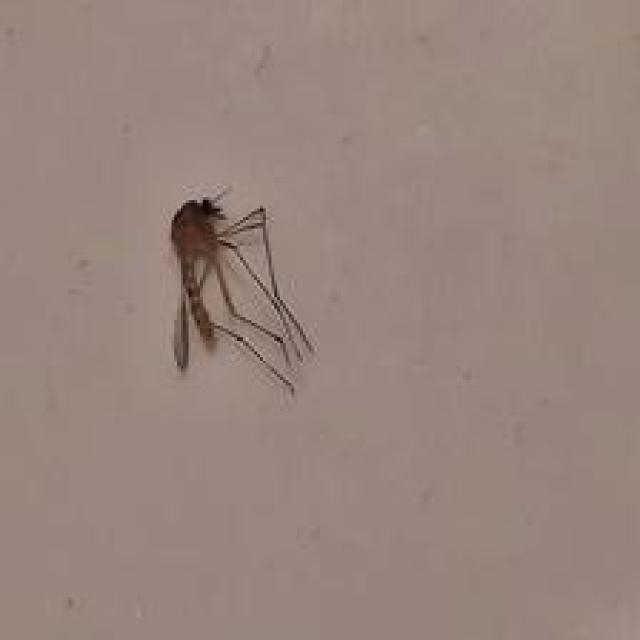Culex: (167, 186, 316, 397)
